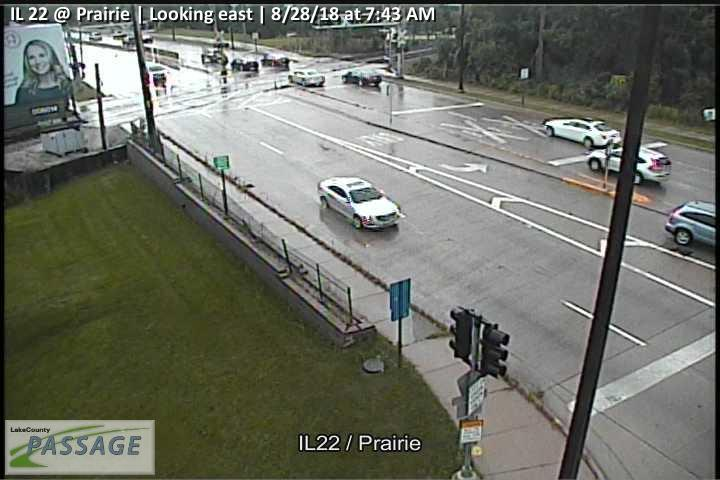SUV: (586, 144, 672, 183), (663, 200, 720, 246)
Sedan: (317, 176, 401, 229), (543, 117, 621, 148), (342, 66, 383, 86), (288, 68, 325, 87), (231, 56, 259, 72)
